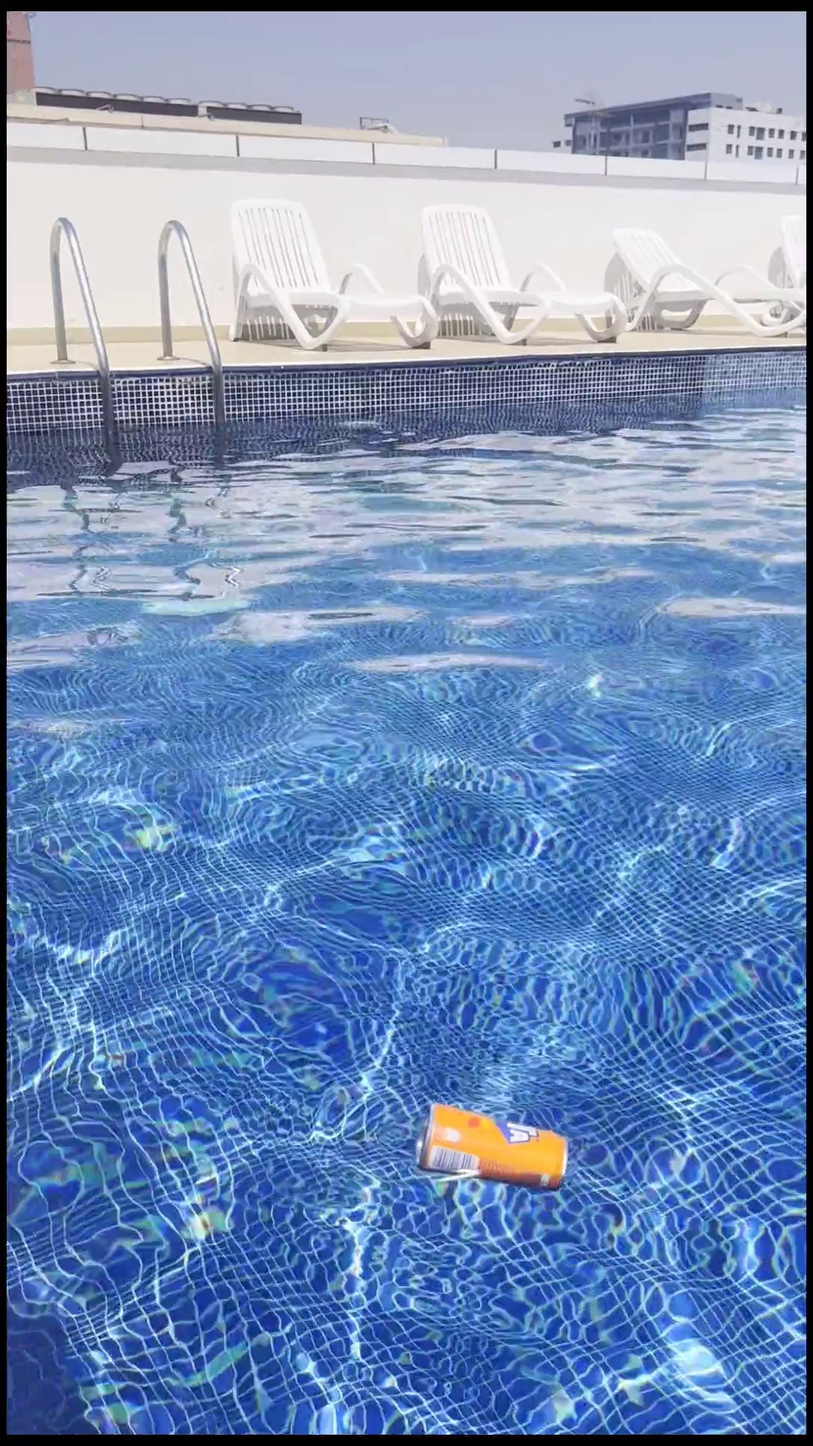debris: (405, 1071, 572, 1237)
